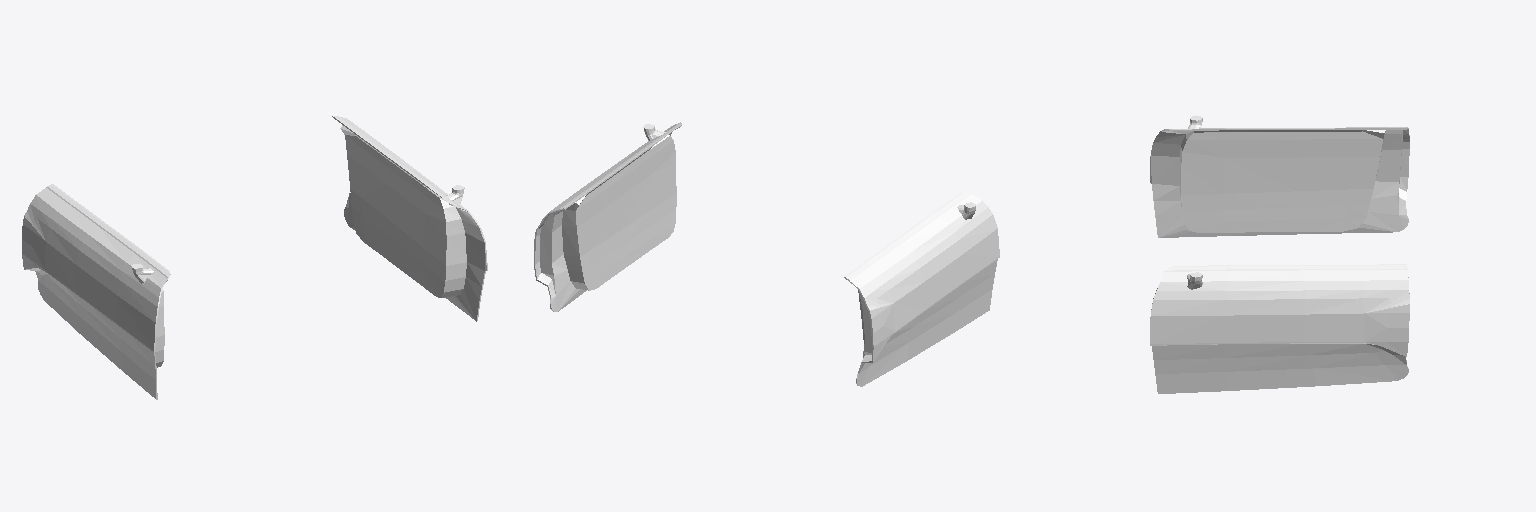
File: sbrc_doors.obj
The picture shows the model from 3 angles: view 1: azimuth 30°, elevation 25°; view 2: azimuth 150°, elevation 25°; view 3: azimuth 270°, elevation 25°; orthographic projection.
Parts seen in each view (by area): view 1: sbrc_door_R_Mesh.224, sbrc_door_L_Mesh.225; view 2: sbrc_door_R_Mesh.224, sbrc_door_L_Mesh.225; view 3: sbrc_door_L_Mesh.225, sbrc_door_R_Mesh.224.
Boxes of the visible parts, x1=… form: sbrc_door_R_Mesh.224: x1=22, y1=184, x2=170, y2=399; sbrc_door_L_Mesh.225: x1=332, y1=116, x2=487, y2=321; sbrc_door_R_Mesh.224: x1=844, y1=192, x2=999, y2=386; sbrc_door_L_Mesh.225: x1=534, y1=122, x2=681, y2=311; sbrc_door_L_Mesh.225: x1=1150, y1=264, x2=1409, y2=393; sbrc_door_R_Mesh.224: x1=1150, y1=115, x2=1409, y2=237.
Size of the model in its own units: 1.79 by 0.6021 by 1.19.